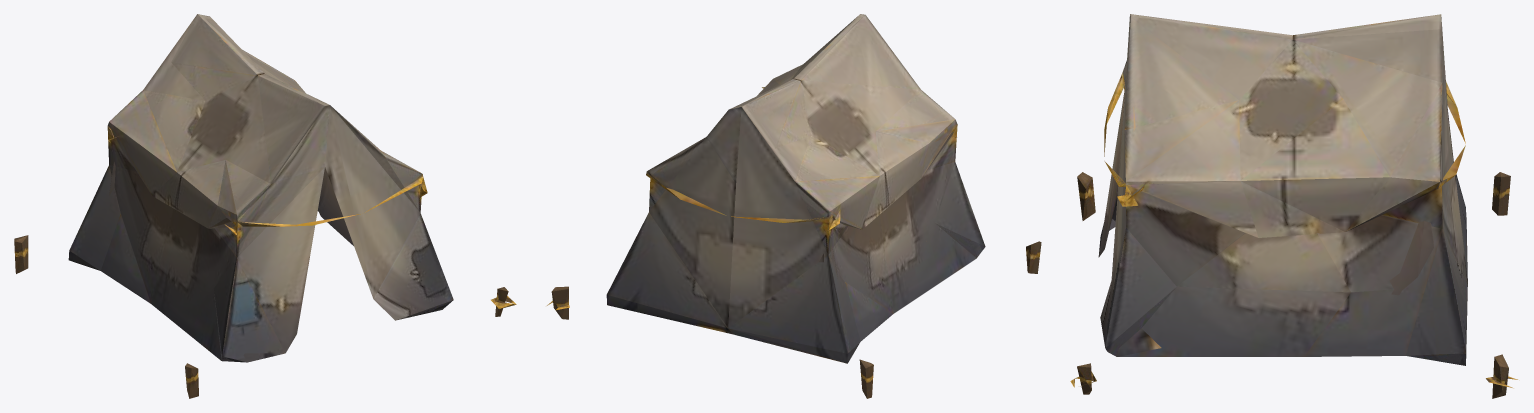
The model's file is a-tente-semis.glb.
3 views of the same model, side by side, from view 1: azimuth 30°, elevation 25°; view 2: azimuth 150°, elevation 25°; view 3: azimuth 270°, elevation 25° (orthographic). The views are drawn at different scales.
Parts seen in each view (by area): view 1: a-tente-semis; view 2: a-tente-semis; view 3: a-tente-semis.
Part boxes in pixels (x1,y1,x2,y2): a-tente-semis: [14, 14, 516, 398]; a-tente-semis: [547, 14, 1041, 398]; a-tente-semis: [1070, 14, 1517, 398].
Bounding box in the file's own units: 1.99 × 1.39 × 1.92.
1 material, 1 textured.
